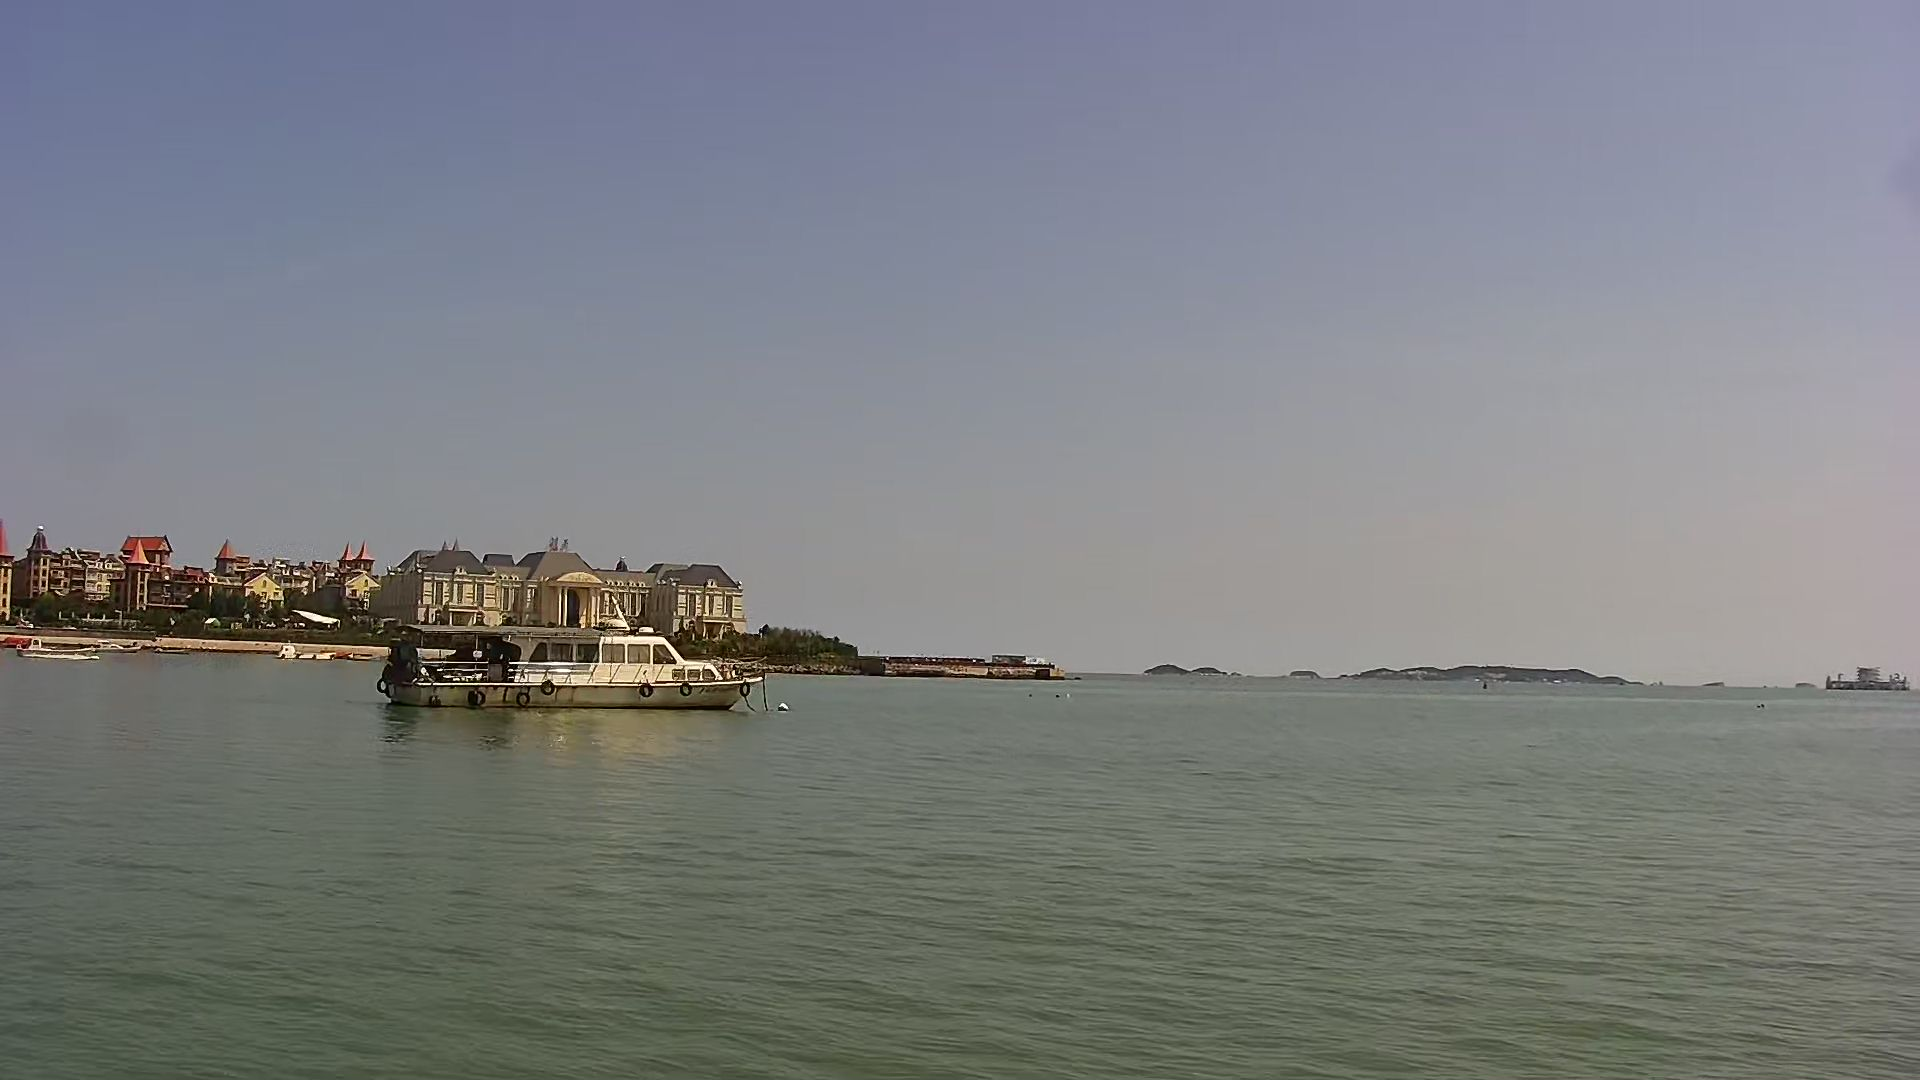ball: (774, 700, 793, 713)
boat: (7, 634, 104, 661)
platform: (1821, 665, 1913, 694)
ship: (377, 617, 769, 715)
